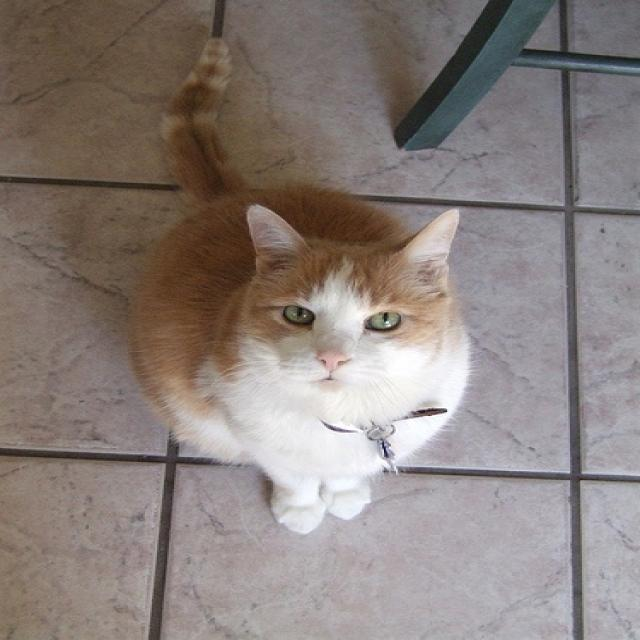cat: (132, 40, 470, 527)
